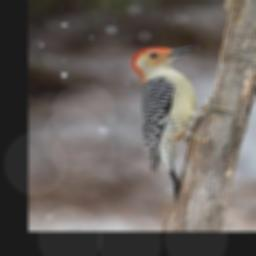Woodpecker: (132, 45, 240, 199)
